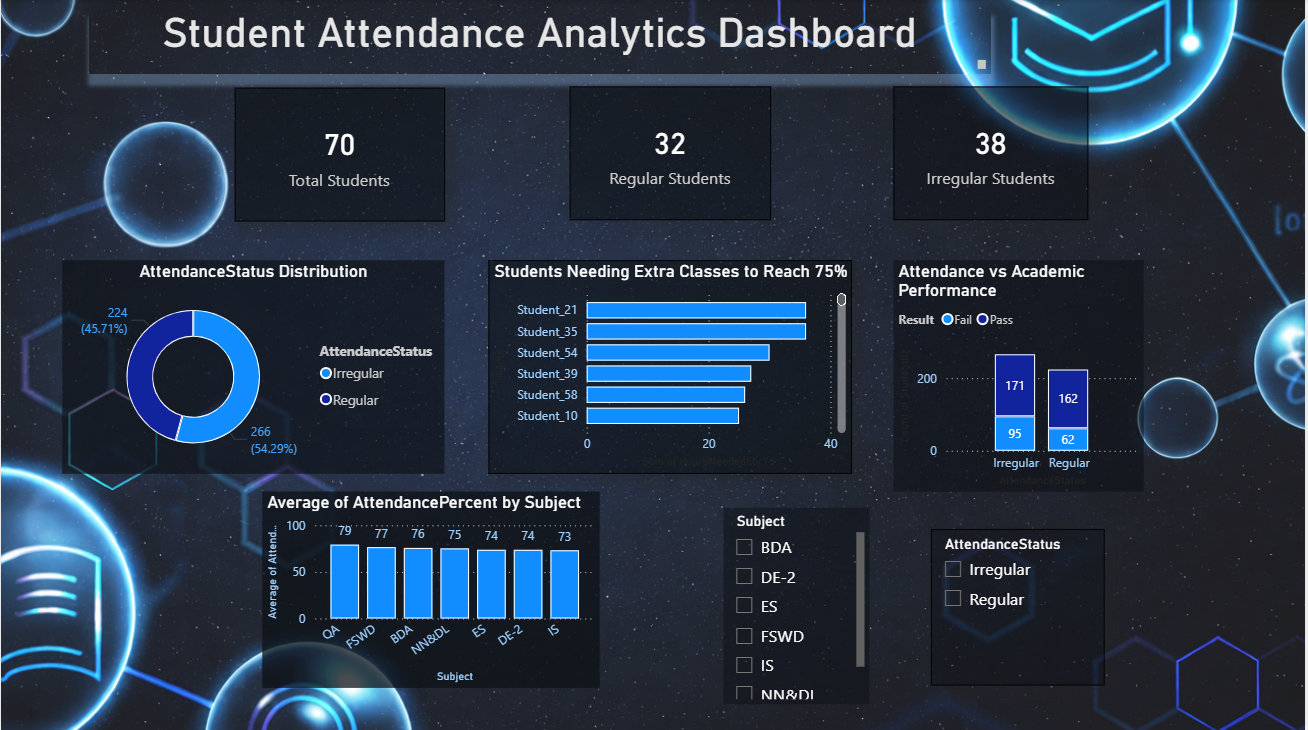

What the dashboard file says about the page in this screenshot:
{"tool":"powerbi","page":{"name":"Page 1","canvas":[1280,720],"ordinal":0},"visuals":[{"type":"textbox","title":"Student Attendance Analytics Dashboard","box":[85.9,8.6,885.9,65],"z":1000},{"type":"card","fields":{"Values":["AttendanceData.Regular Students"]},"box":[558.3,85.9,197.5,131.3],"z":3000},{"type":"card","fields":{"Values":["AttendanceData.Irregular Students"]},"box":[876.1,85.9,191.4,131.3],"z":3001},{"type":"donutChart","title":" AttendanceStatus Distribution","fields":{"Category":["StudentRegularity.AttendanceStatus"],"Y":["CountNonNull(AttendanceData.StudentID)"]},"box":[60.1,256.4,375.5,209.8],"z":3002},{"type":"barChart","title":"Students Needing Extra Classes to Reach 75%","fields":{"Category":["AttendanceData.Name"],"Y":["Sum(AttendanceData.HoursNeededFor75)"]},"box":[478.5,256.4,357.1,209.8],"z":3003},{"type":"columnChart","title":"Attendance vs Academic Performance","fields":{"Series":["AttendanceData.Result"],"Category":["StudentRegularity.AttendanceStatus"],"Y":["CountNonNull(AttendanceData.StudentID)"]},"box":[876.1,256.4,245.4,227],"z":3004},{"type":"clusteredColumnChart","fields":{"Category":["AttendanceData.Subject"],"Y":["Avg(AttendanceData.AttendancePercent)"]},"box":[256.4,483.4,331.3,192.6],"z":3005},{"type":"card","fields":{"Values":["AttendanceData.Total Students"]},"box":[229.4,87.1,206.1,131.3],"z":3006},{"type":"slicer","fields":{"Values":["AttendanceData.Subject"]},"box":[709.2,499.4,143.6,192.6],"z":3007},{"type":"slicer","fields":{"Values":["StudentRegularity.AttendanceStatus"]},"box":[912.9,520.2,170.6,153.4],"z":3008}]}

Visuals, with their boxes in screenshot pixels (x1, y1, x2, y2), scaled from the page's 1280x720 canvas onto the 1308x730 screenshot:
"Student Attendance Analytics Dashboard" textbox: left=88, top=9, right=993, bottom=75
card - AttendanceData.Regular Students: left=571, top=87, right=772, bottom=220
card - AttendanceData.Irregular Students: left=895, top=87, right=1091, bottom=220
" AttendanceStatus Distribution" donutChart: left=61, top=260, right=445, bottom=473
"Students Needing Extra Classes to Reach 75%" barChart: left=489, top=260, right=854, bottom=473
"Attendance vs Academic Performance" columnChart: left=895, top=260, right=1146, bottom=490
clusteredColumnChart - AttendanceData.Subject x Avg(AttendanceData.AttendancePercent): left=262, top=490, right=601, bottom=685
card - AttendanceData.Total Students: left=234, top=88, right=445, bottom=221
slicer - AttendanceData.Subject: left=725, top=506, right=871, bottom=702
slicer - StudentRegularity.AttendanceStatus: left=933, top=527, right=1107, bottom=683
